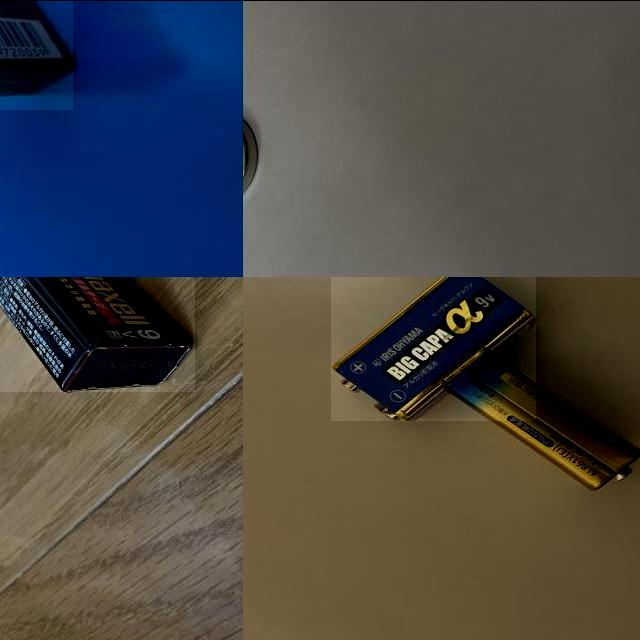9V: (331, 276, 536, 420), (443, 348, 640, 491), (0, 276, 195, 391)
